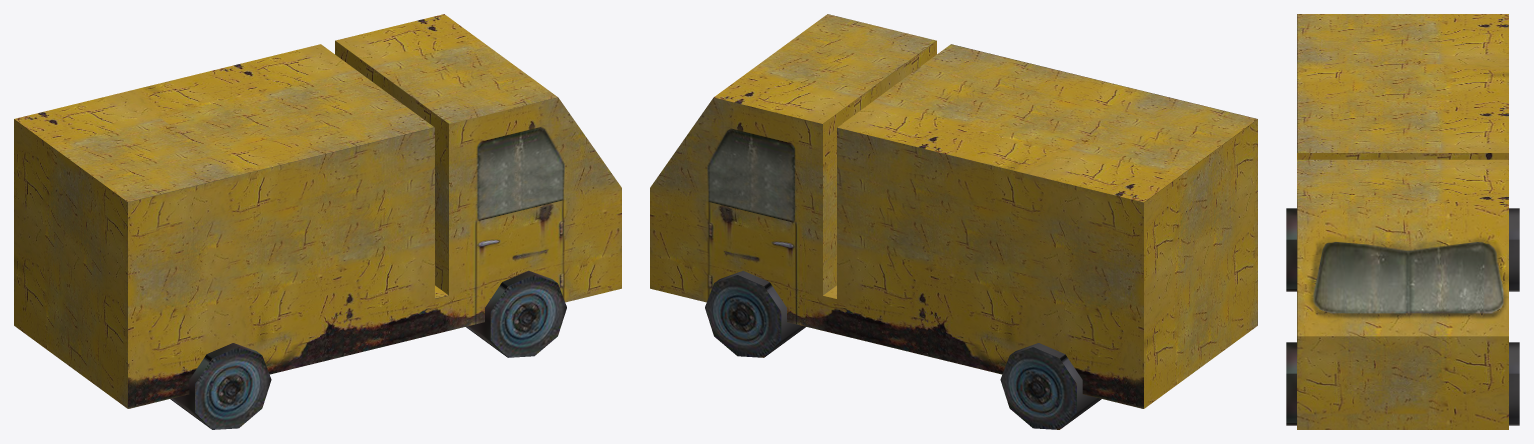
File: truck.obj
3 renders of one model, left to right at view 1: azimuth 30°, elevation 25°; view 2: azimuth 150°, elevation 25°; view 3: azimuth 270°, elevation 25°, orthographic. The views are drawn at different scales.
Visible parts, largest first — view 1: truck, wheels02, wheels1; view 2: truck, wheels02, wheels1; view 3: truck, wheels1, wheels02.
Part boxes in pixels (left/top/right/bottom): truck: left=14, top=14, right=621, bottom=408; wheels02: left=170, top=343, right=271, bottom=429; wheels1: left=466, top=270, right=566, bottom=357; truck: left=650, top=14, right=1257, bottom=408; wheels02: left=1000, top=343, right=1101, bottom=429; wheels1: left=705, top=270, right=805, bottom=357; truck: left=1297, top=14, right=1508, bottom=429; wheels1: left=1286, top=342, right=1519, bottom=425; wheels02: left=1286, top=208, right=1519, bottom=291.
Size of the model in its own units: 25 by 11.97 by 11.
1 material, 1 textured.
